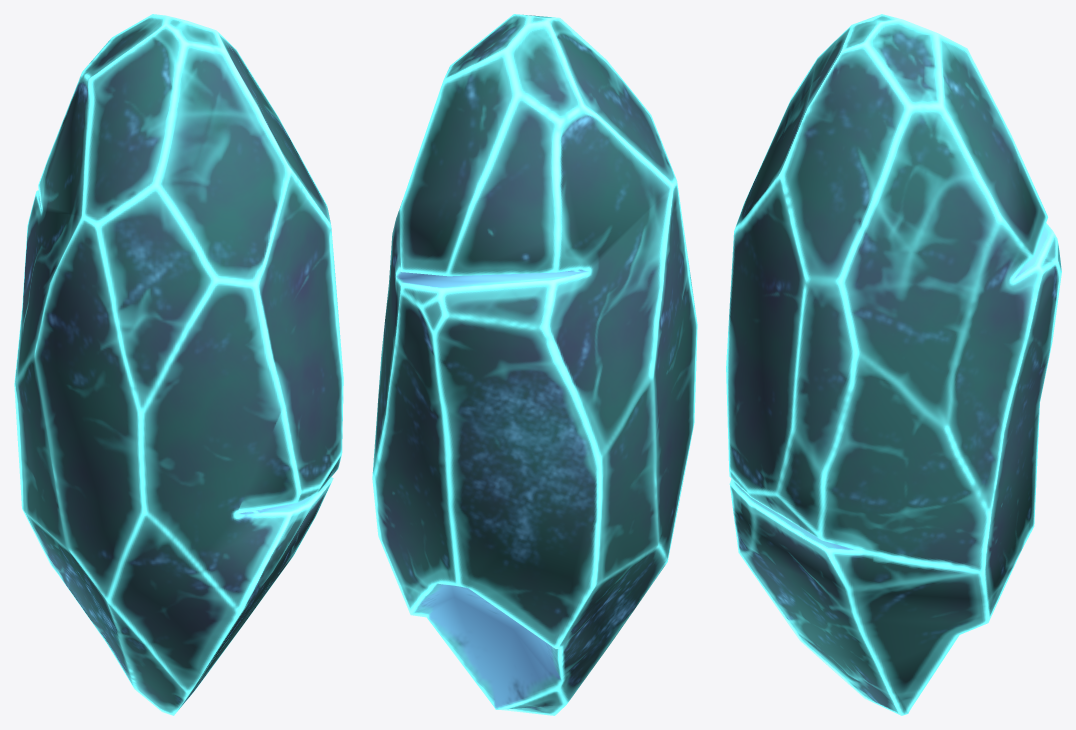
The model's file is Crystal.fbx.
The picture shows the model from 3 angles, left to right: view 1: azimuth 30°, elevation 25°; view 2: azimuth 150°, elevation 25°; view 3: azimuth 270°, elevation 25°; orthographic projection.
Parts seen in each view (by area): view 1: Crystal; view 2: Crystal; view 3: Crystal.
Boxes of the visible parts, x1=… form: Crystal: x1=14, y1=14, x2=343, y2=715; Crystal: x1=372, y1=14, x2=697, y2=715; Crystal: x1=726, y1=14, x2=1061, y2=715.
Size of the model in its own units: 176 by 432 by 192.
